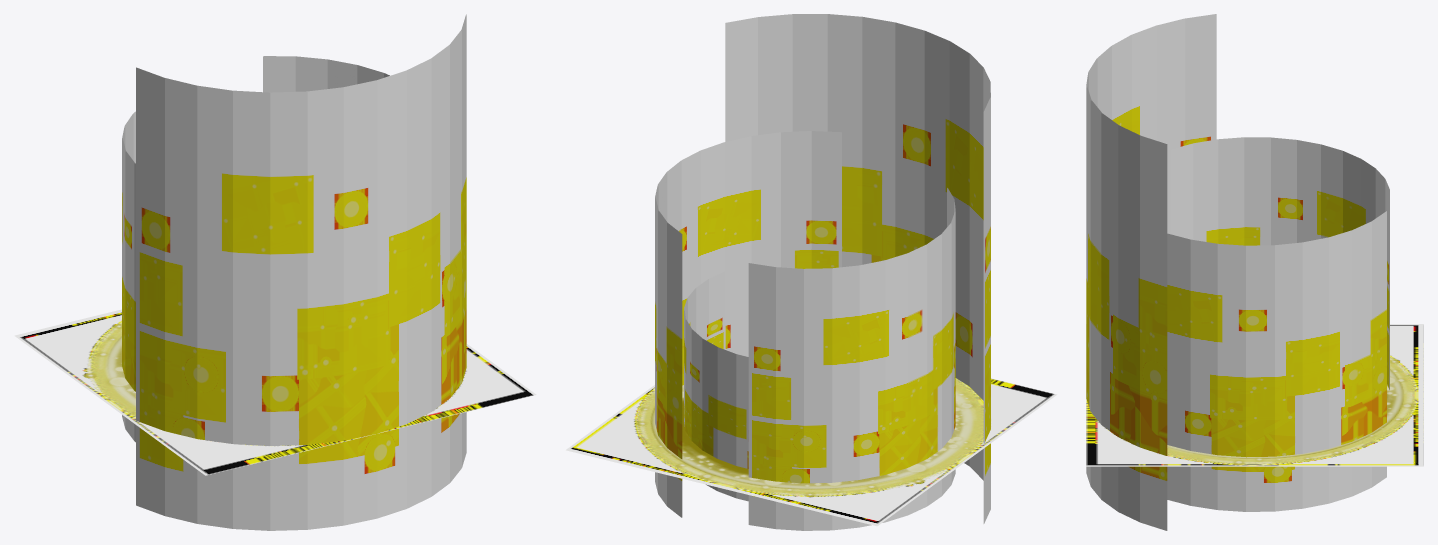
File: tutorial_effect.fbx
3 views of the same model, side by side, from view 1: azimuth 30°, elevation 25°; view 2: azimuth 150°, elevation 25°; view 3: azimuth 270°, elevation 25° (orthographic). The views are drawn at different scales.
Parts seen in each view (by area): view 1: aura.001, main; view 2: aura.001, main; view 3: aura.001, main.
Boxes of the visible parts, x1,y1,x2,y2 form: aura.001: [122, 14, 466, 530]; main: [14, 309, 536, 475]; aura.001: [655, 14, 990, 530]; main: [566, 378, 1057, 526]; aura.001: [1086, 14, 1389, 530]; main: [1086, 324, 1423, 466].
Size of the model in its own units: 200 by 253 by 200.
